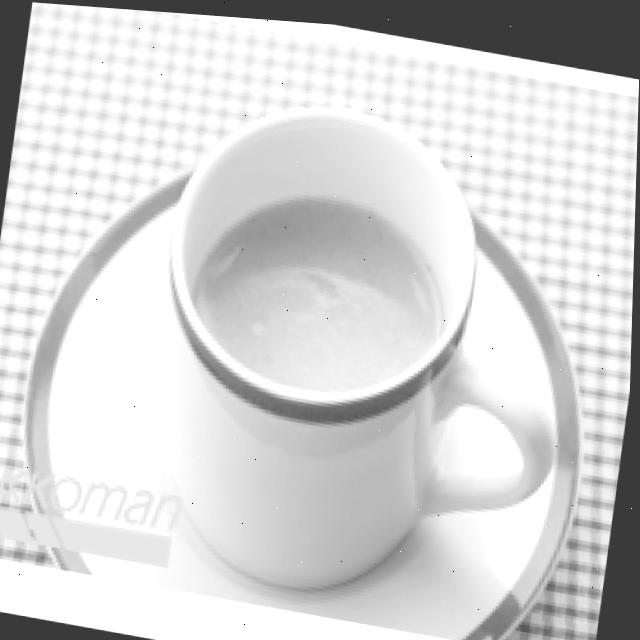汤锅炖物: (0, 37, 634, 532)
